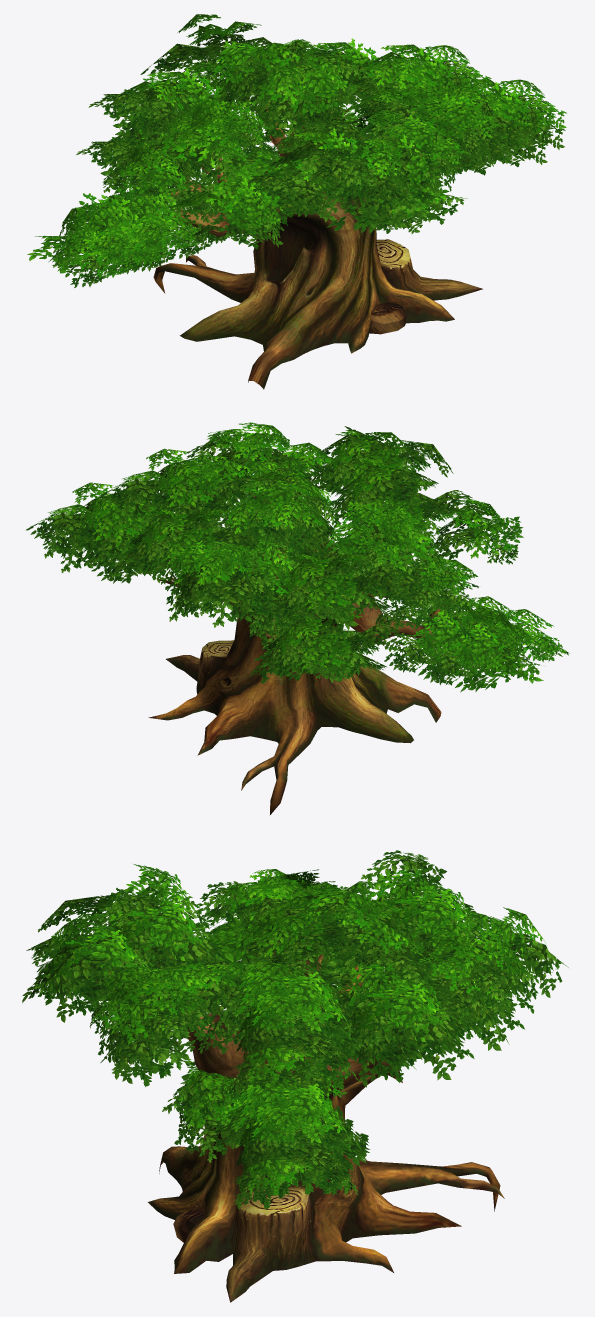
Rendered from dashu.FBX.
3 renders of one model, top to bottom at view 1: azimuth 30°, elevation 25°; view 2: azimuth 150°, elevation 25°; view 3: azimuth 270°, elevation 25°, orthographic. The views are drawn at different scales.
Parts seen in each view (by area): view 1: shuye, shu01; view 2: shuye, shu01; view 3: shuye, shu01.
Boxes of the visible parts, x1,y1,x2,y2 form: shuye: [27, 14, 566, 287]; shu01: [142, 105, 482, 389]; shuye: [26, 422, 569, 692]; shu01: [148, 493, 444, 814]; shuye: [22, 850, 568, 1209]; shu01: [148, 931, 504, 1302].
Size of the model in its own units: 2180 by 1087 by 1589.
